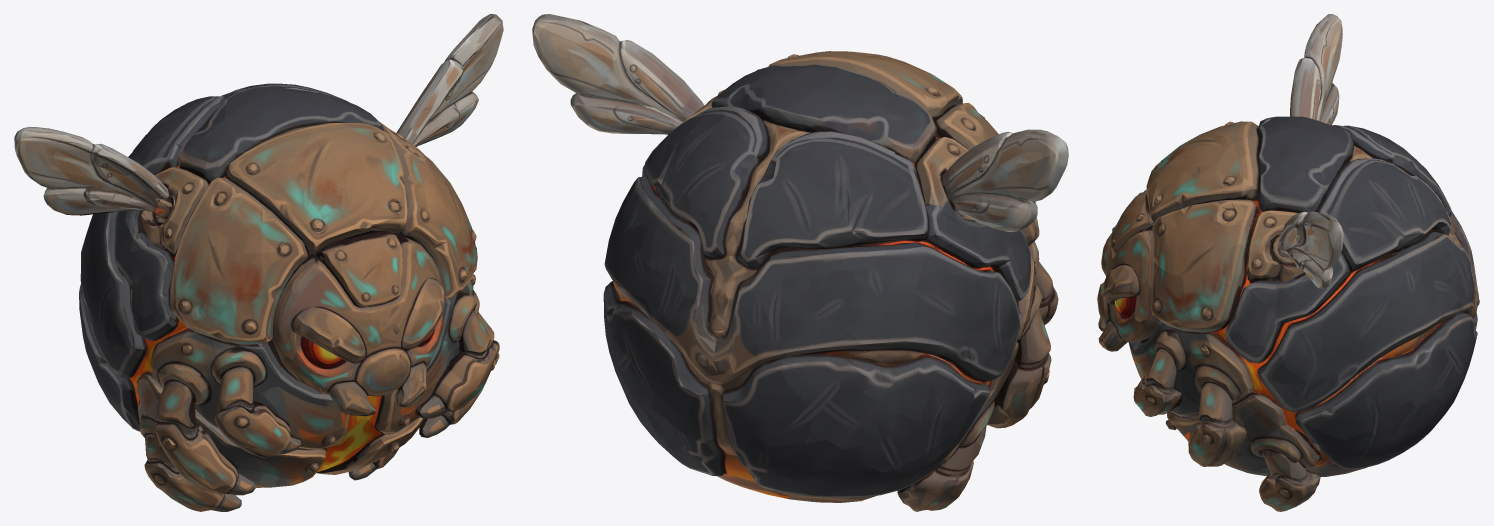
File: 06_bloated_tick.glb
3 renders of one model, left to right at view 1: azimuth 30°, elevation 25°; view 2: azimuth 150°, elevation 25°; view 3: azimuth 270°, elevation 25°, orthographic. The views are drawn at different scales.
Visible parts, largest first — view 1: output_unwrapped; view 2: output_unwrapped; view 3: output_unwrapped.
Part boxes in pixels (x1,y1,x2,y2): output_unwrapped: (14, 14, 503, 511); output_unwrapped: (532, 14, 1068, 511); output_unwrapped: (1097, 14, 1479, 511).
Bounding box in the file's own units: 1.9 × 1.49 × 1.44.
Materials: 1 (1 with a texture image).
